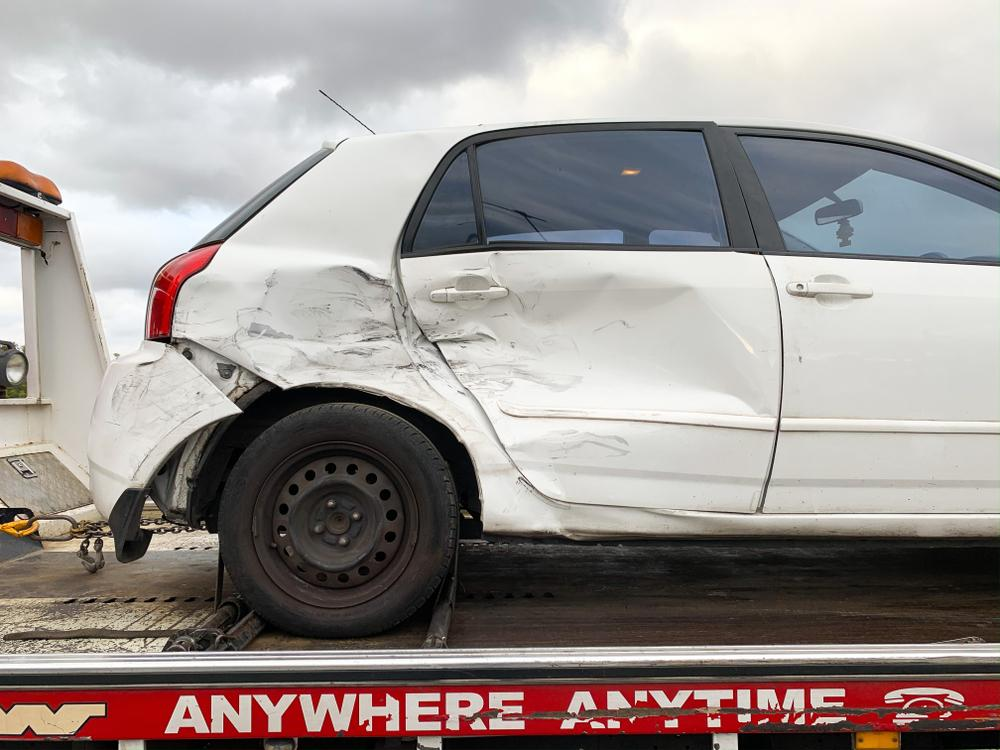dent: (416, 274, 767, 497), (178, 267, 450, 409)
scratch: (113, 344, 236, 487)
